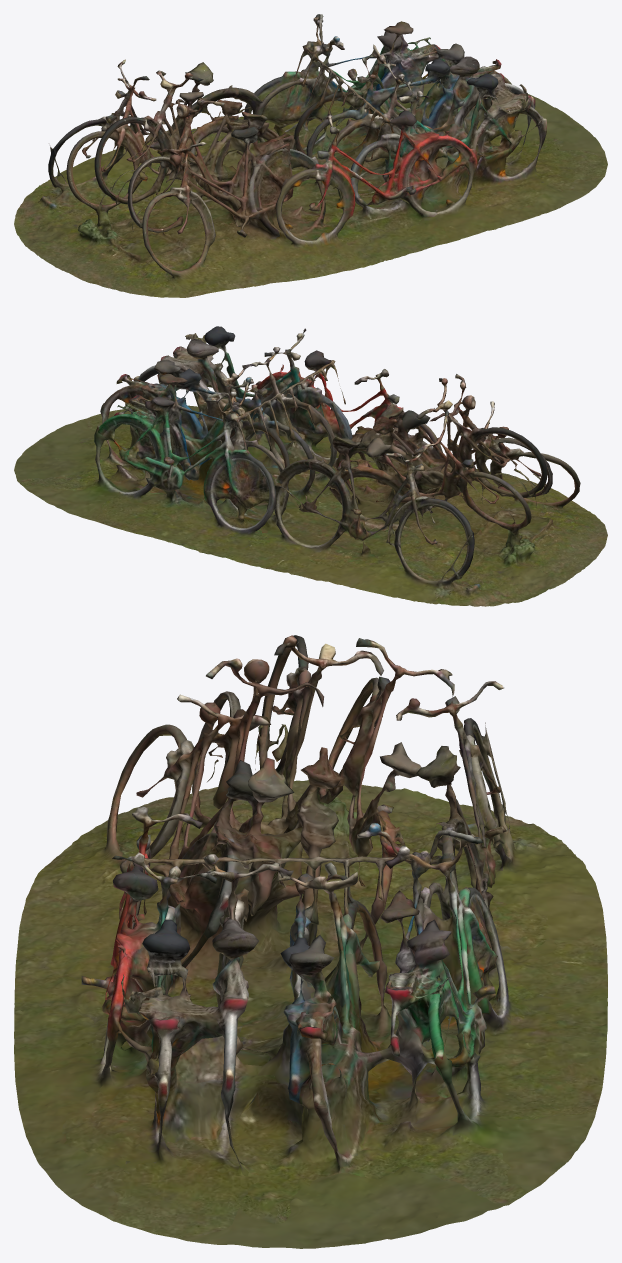
Rendered from bikes.glb.
3 views of the same model, one above another, from view 1: azimuth 30°, elevation 25°; view 2: azimuth 150°, elevation 25°; view 3: azimuth 270°, elevation 25° (orthographic). The views are drawn at different scales.
Visible parts, largest first — view 1: Object_4; view 2: Object_4; view 3: Object_4.
Part boxes in pixels (left/top/right/bottom): Object_4: left=14, top=14, right=607, bottom=297; Object_4: left=14, top=326, right=607, bottom=606; Object_4: left=14, top=635, right=607, bottom=1248.
Bounding box in the file's own units: 4.42 × 1.25 × 2.39.
Materials: 2 (1 with a texture image).
